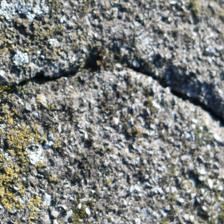Crack: (73, 56, 133, 137), (30, 79, 82, 143)
